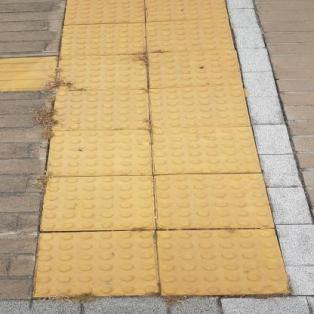Podoctatil: (0, 0, 299, 303)
